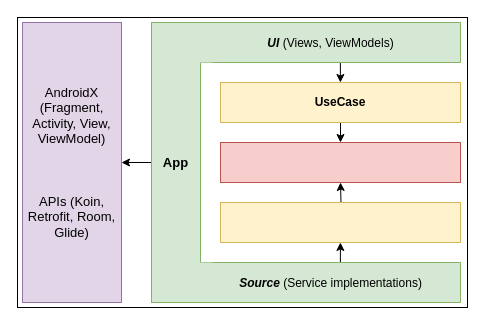
Some shapes in this 485 by 325 pixel diagram are drawn without their labels. Here are the shapes that lost their labels. From the top down, the box of each, then its label:
(220, 142, 460, 182): Domain (Models)
(220, 202, 460, 242): Data (Repository implementations)
